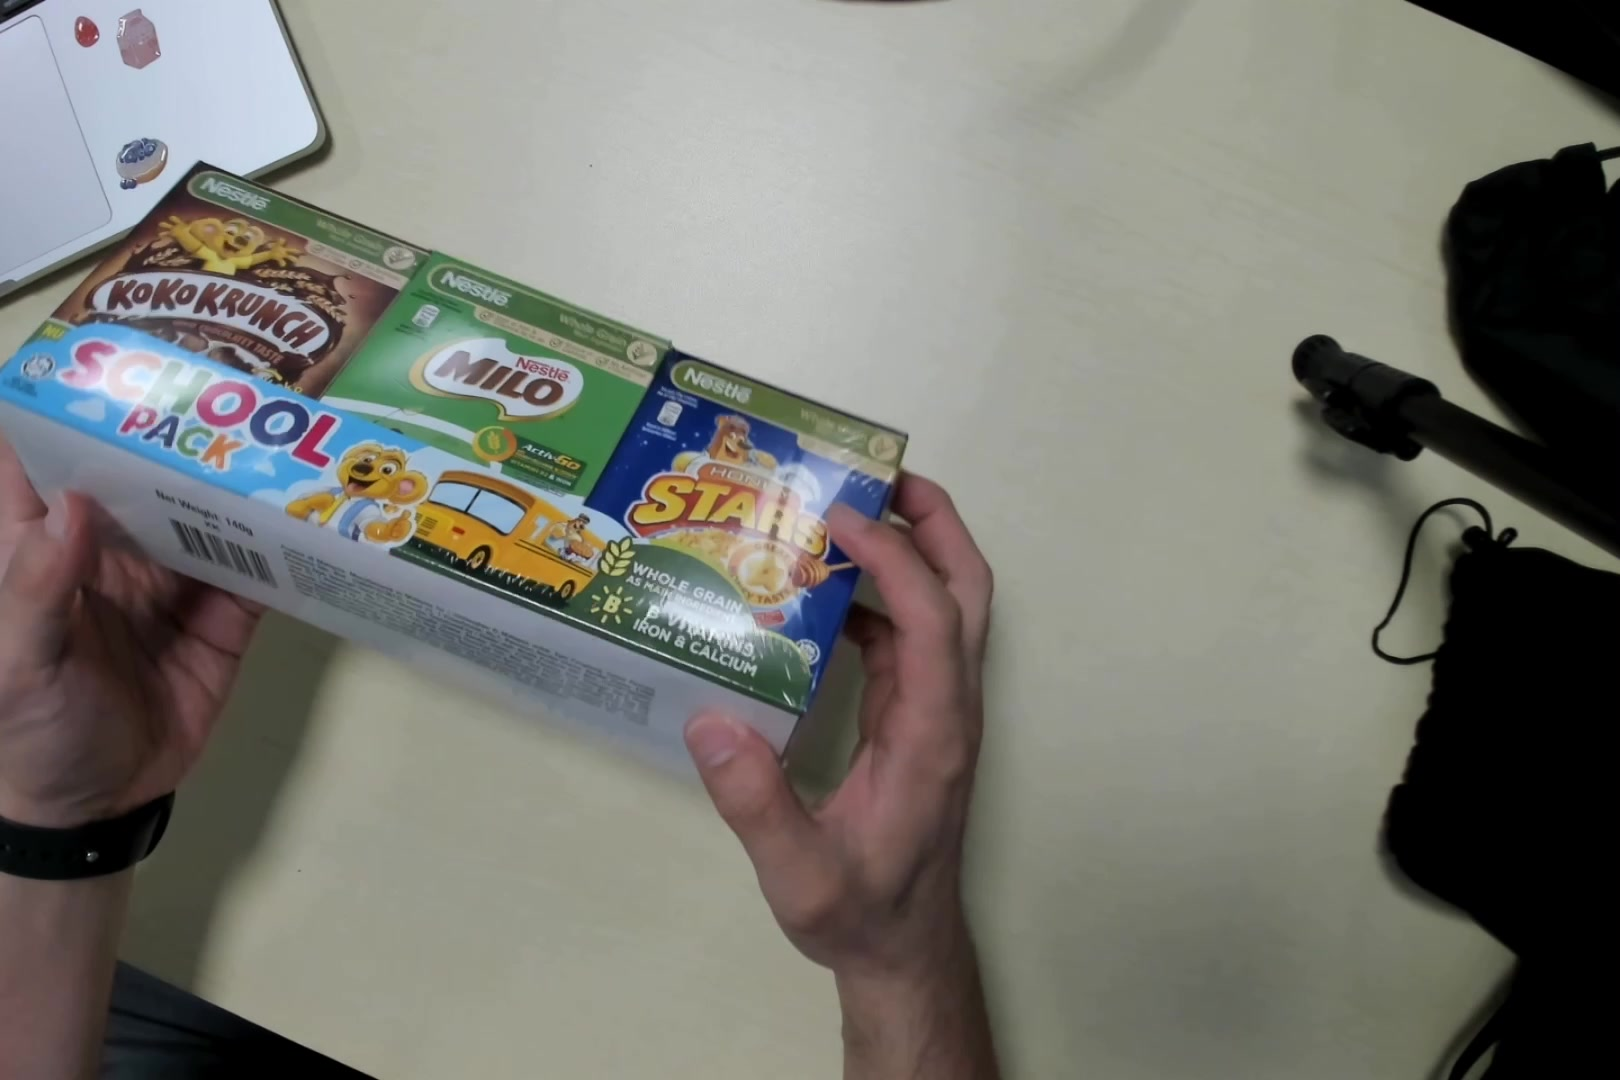BreakfastCereals_100-199g_Halal_NonHealthy: (8, 174, 904, 777)
